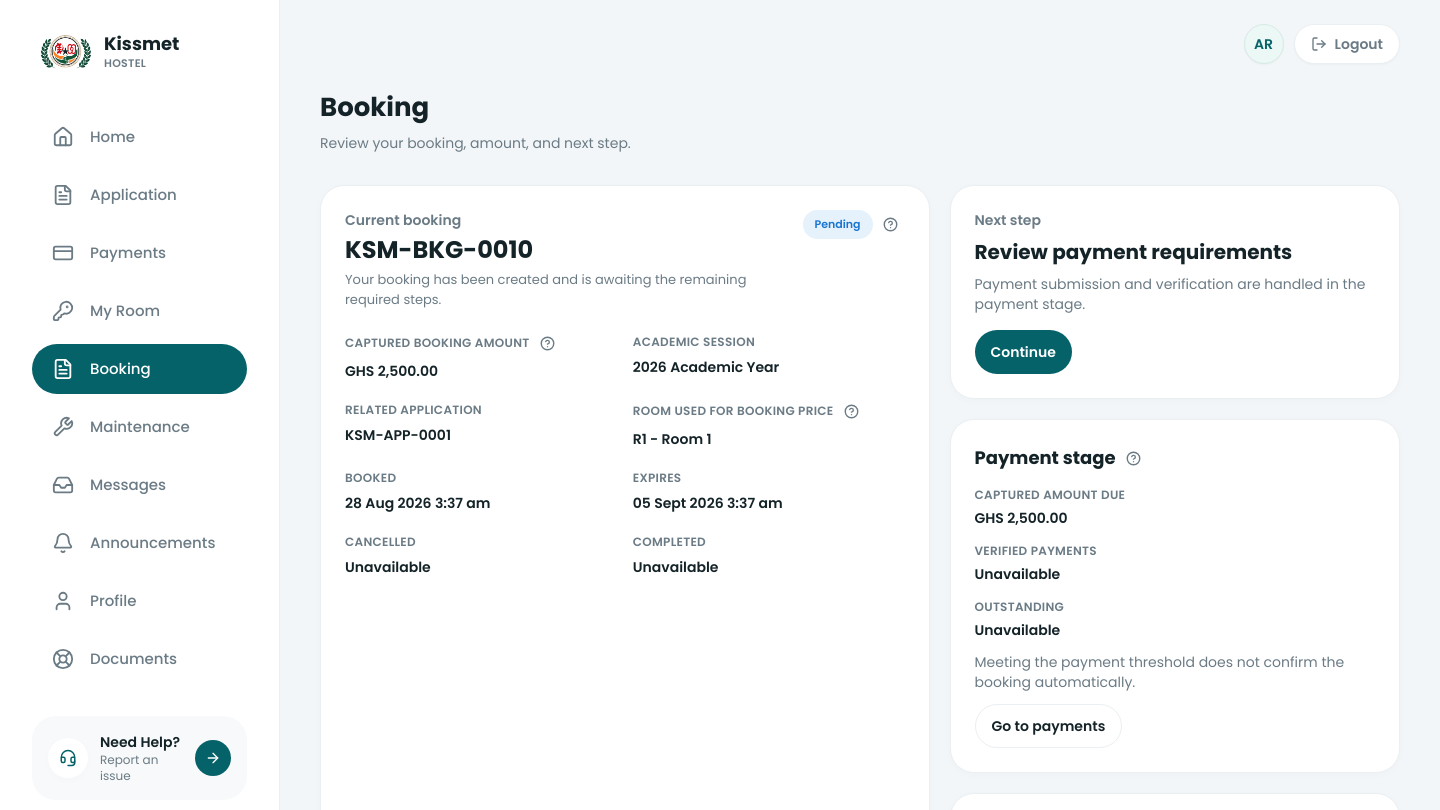
Test case: resident booking › navigates to payments from pending booking
The image size is (1440, 810).
Expected: the heading "Review payment requirements" is shown, [974,238,1292,266]
Click the link "Continue" at (1023, 352), box [974,330,1072,374]
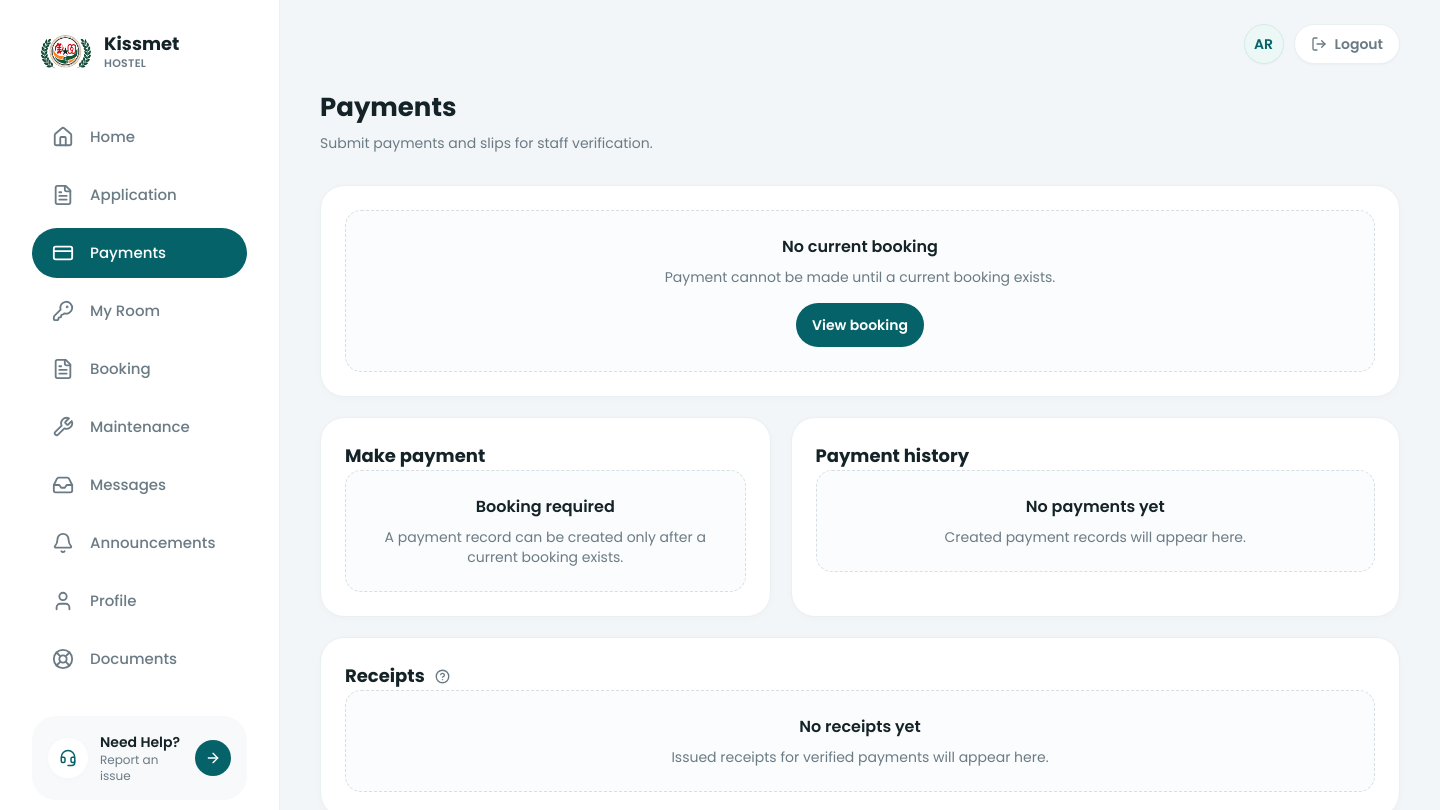
Now the heading "Payments" is shown, box [320,89,456,125]
